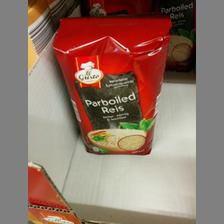Reis: (50, 17, 172, 156)
